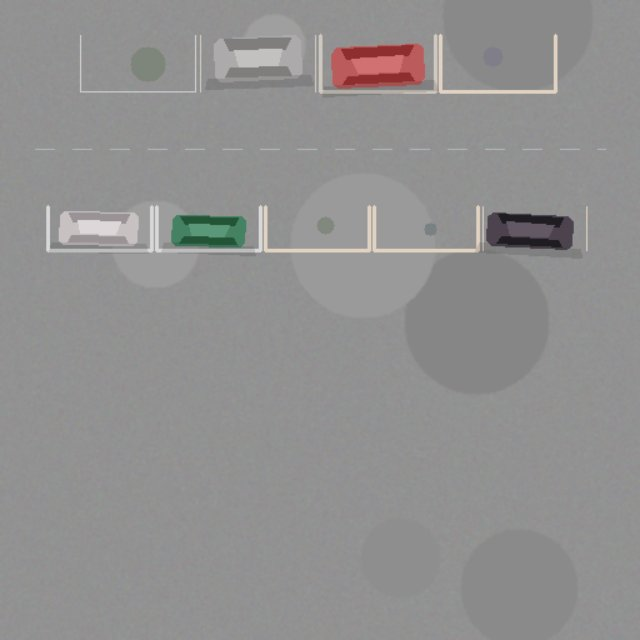space-empty: (80, 35, 195, 91), (440, 35, 555, 91), (265, 206, 369, 250), (374, 206, 477, 250)
space-occupied: (200, 35, 315, 91), (320, 35, 435, 91), (47, 206, 151, 250), (156, 206, 260, 250), (483, 206, 586, 250)
